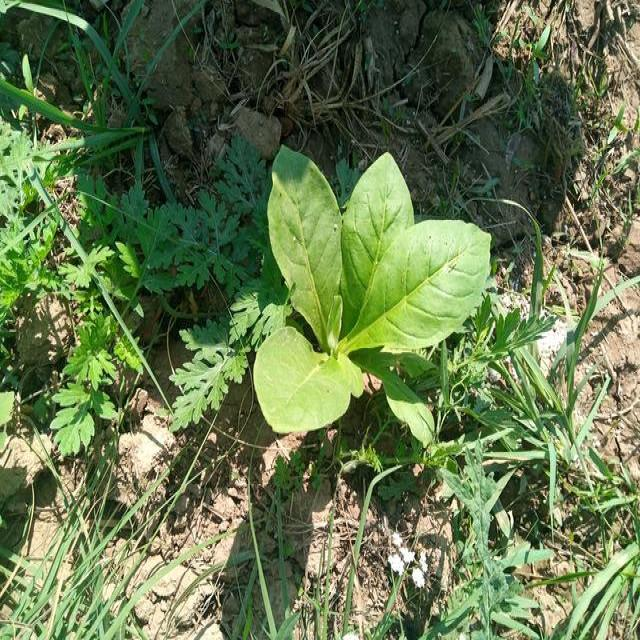crop: (250, 136, 499, 457)
